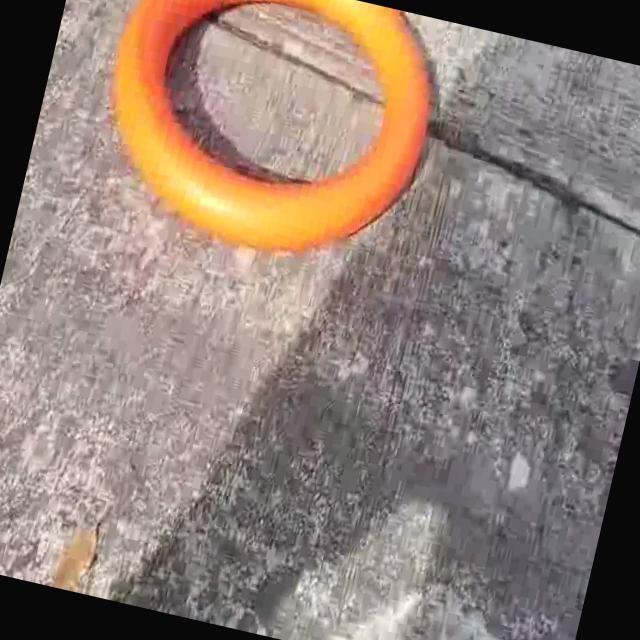note: (79, 0, 458, 289)
